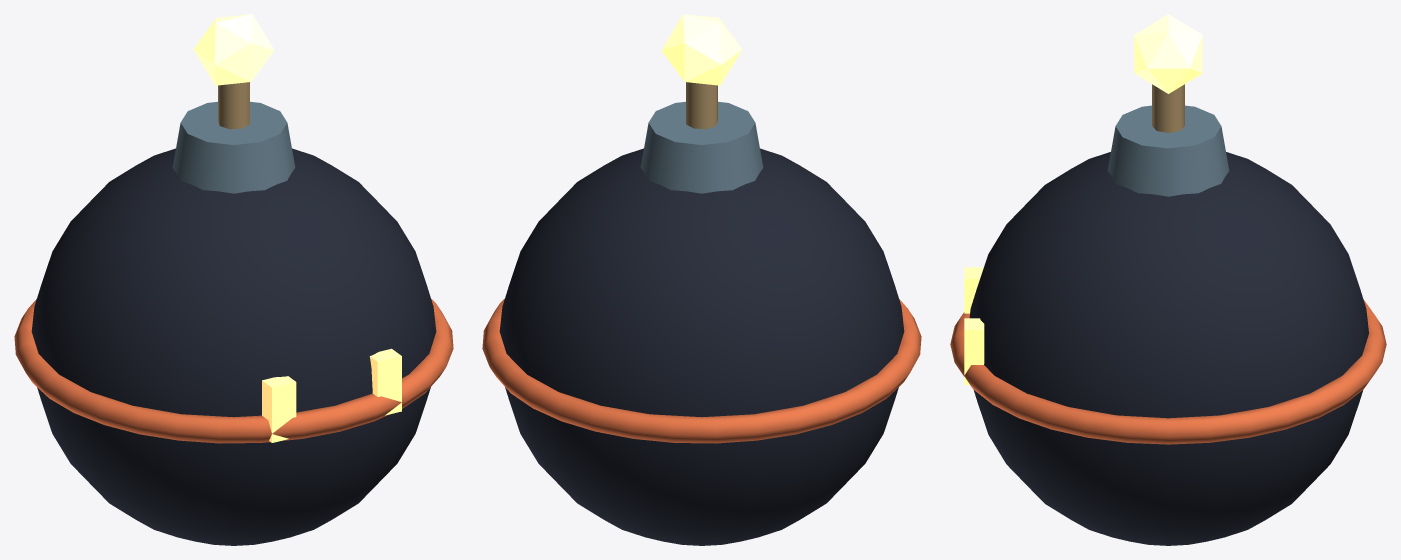
Rendered from bomb.glb.
3 views of the same model, side by side, from view 1: azimuth 30°, elevation 25°; view 2: azimuth 150°, elevation 25°; view 3: azimuth 270°, elevation 25° (orthographic).
Parts seen in each view (by area): view 1: ball-bomb, spark; view 2: ball-bomb, spark; view 3: ball-bomb, spark.
Boxes of the visible parts, x1,y1,x2,y2 form: ball-bomb: [14, 82, 453, 545]; spark: [193, 14, 274, 85]; ball-bomb: [482, 82, 921, 545]; spark: [661, 14, 742, 85]; ball-bomb: [950, 84, 1386, 545]; spark: [1134, 14, 1202, 93].
Bounding box in the file's own units: 1.73 × 2.21 × 1.73.
